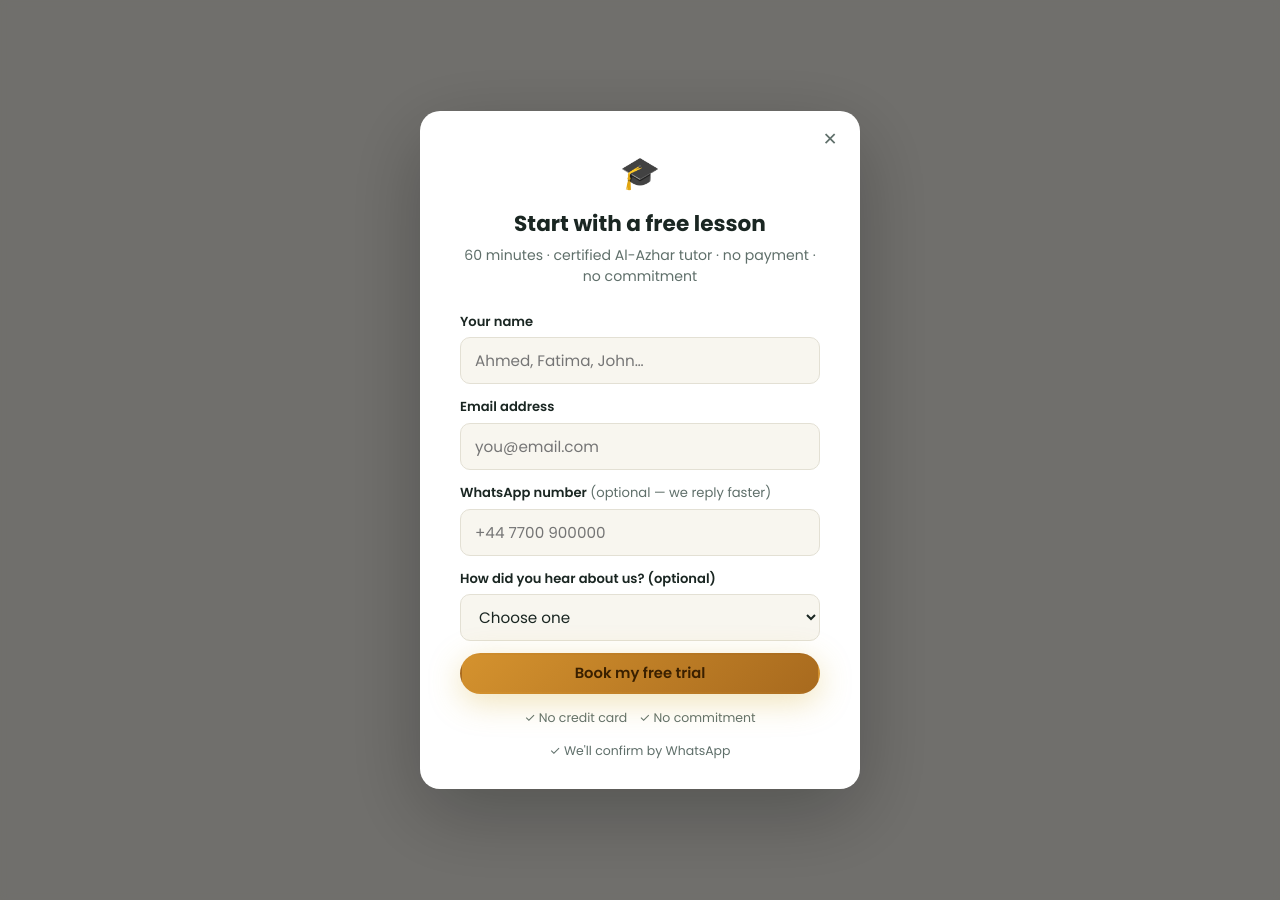
Scenario: no academy WhatsApp number configured › QuickTrialModal: email success only
Type "A" into the field labelled "Your name" at (640, 361), box [460, 338, 820, 384]
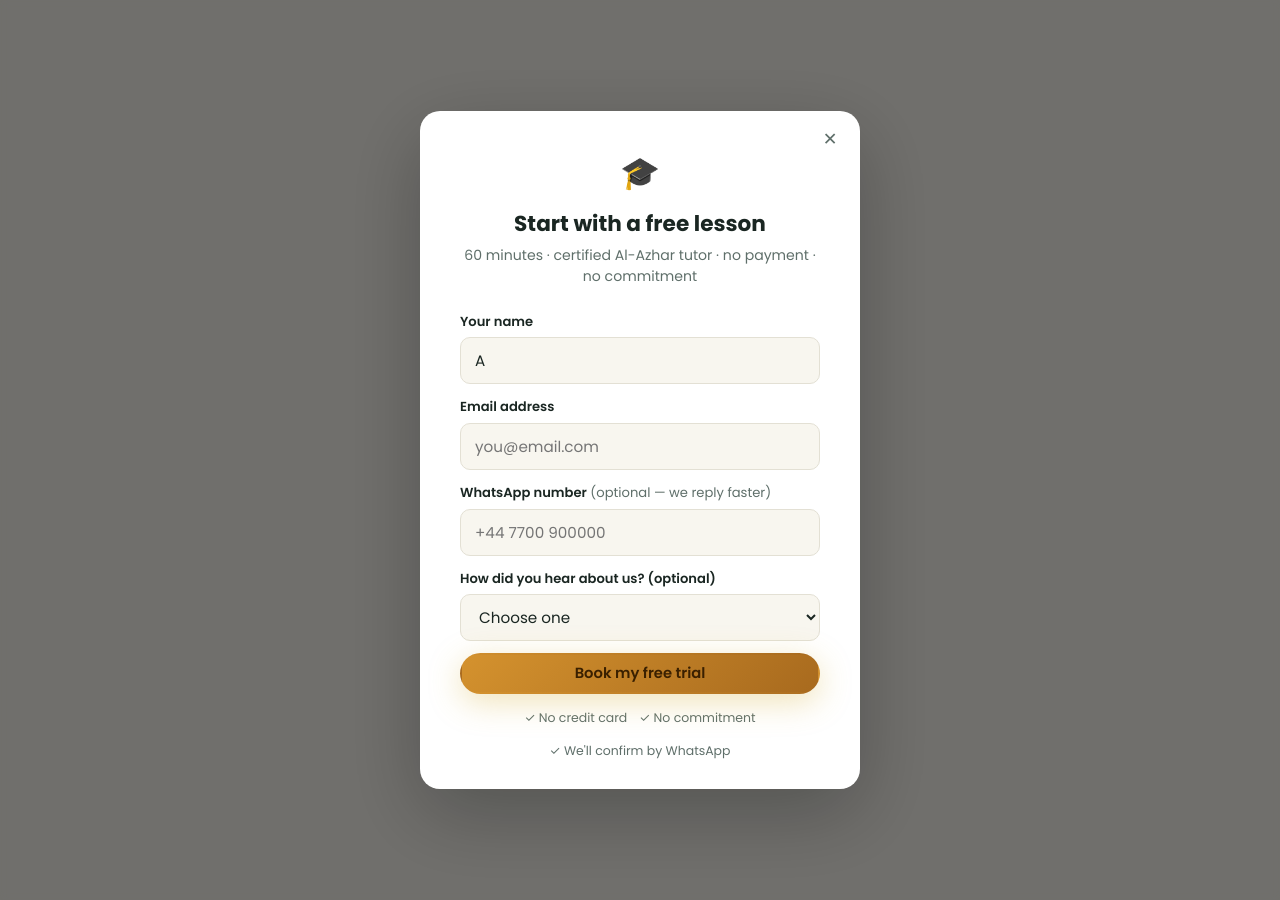
Type "a@example.com" into the field labelled "Email address" at (640, 447), box [460, 423, 820, 470]
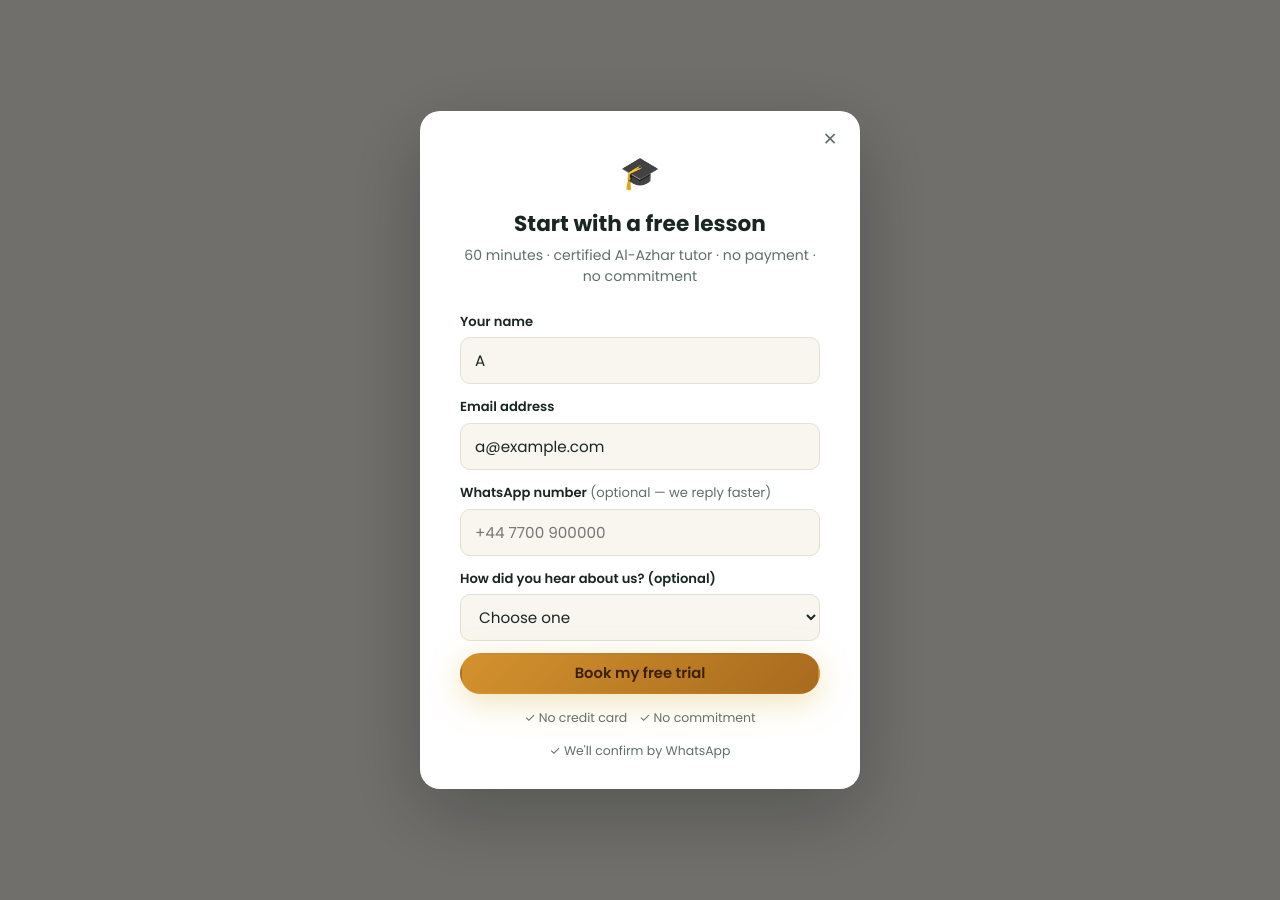
Click the button "Book my free trial" at (640, 674), box [460, 653, 820, 694]
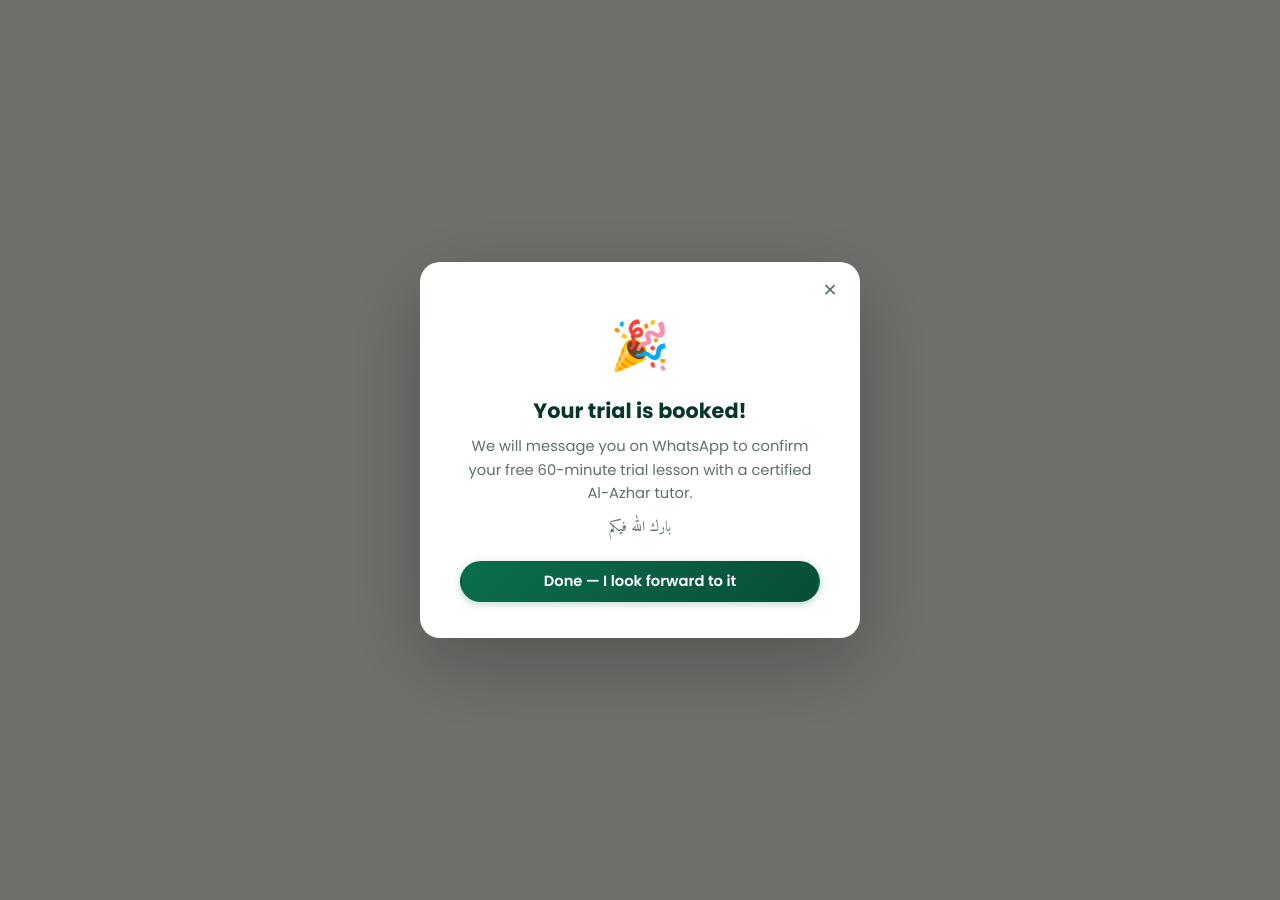
expect the heading "Your trial is booked!" is shown: met, box [533, 396, 747, 425]
